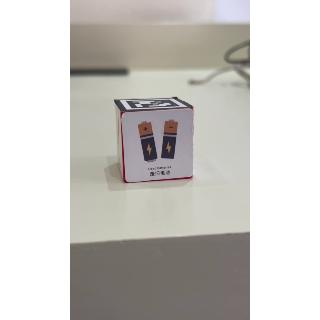Used_Battery: (121, 112, 195, 180)
